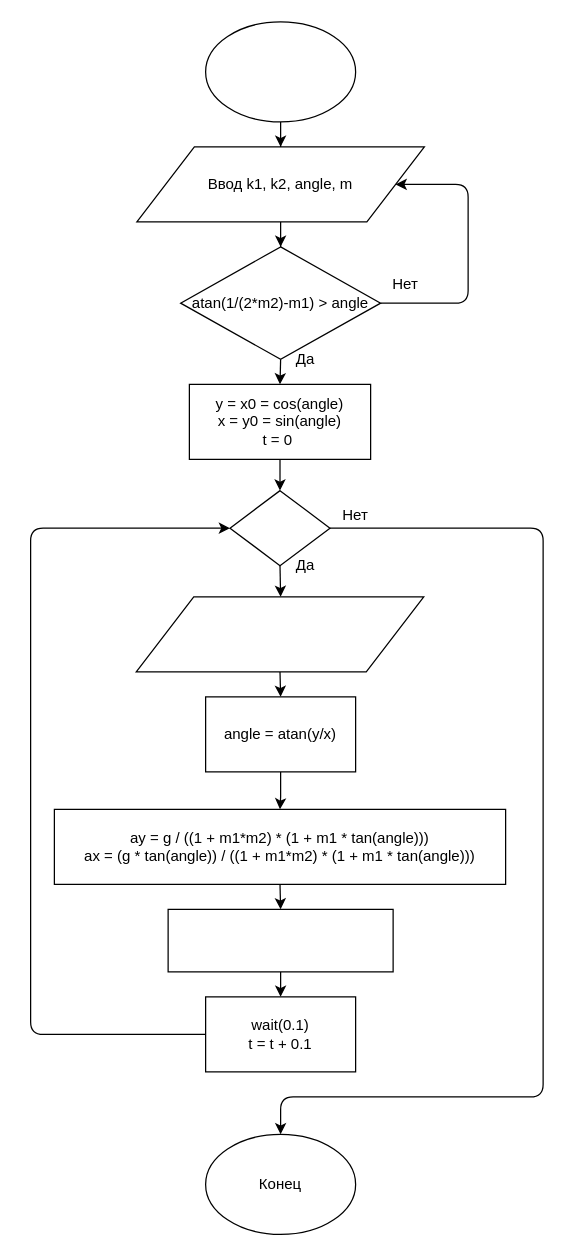
The diagram is 575 pixels wide and 1256 high, and some of its shapes have lost their labels. The box of each missing label's shape, as (x1, y1, x2, y2) in pixels:
x = x0 + 1/2 * ax * t * t y = y0 + 1/2 * ay * t * t: (167, 908, 393, 972)
y > 0: (229, 489, 330, 566)
Вывод angle, x, y Отрисовка прямой по x, y: (135, 596, 424, 672)
Начало: (204, 21, 356, 122)
